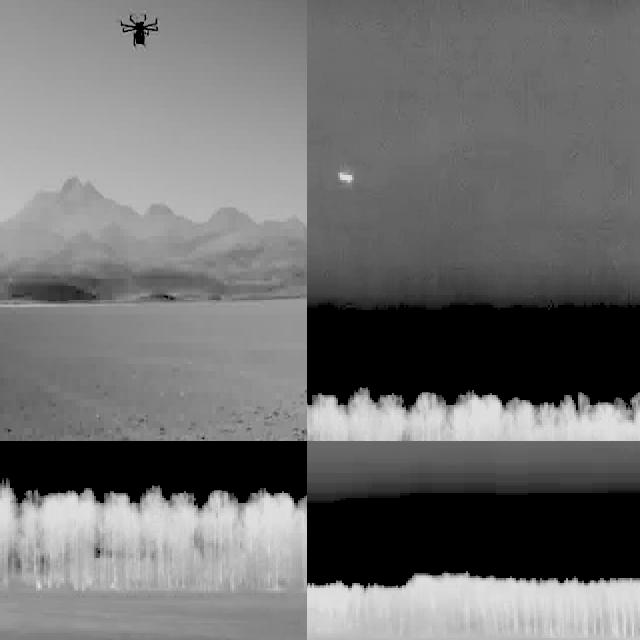1: (327, 165, 363, 195)
drone: (118, 2, 161, 56)
